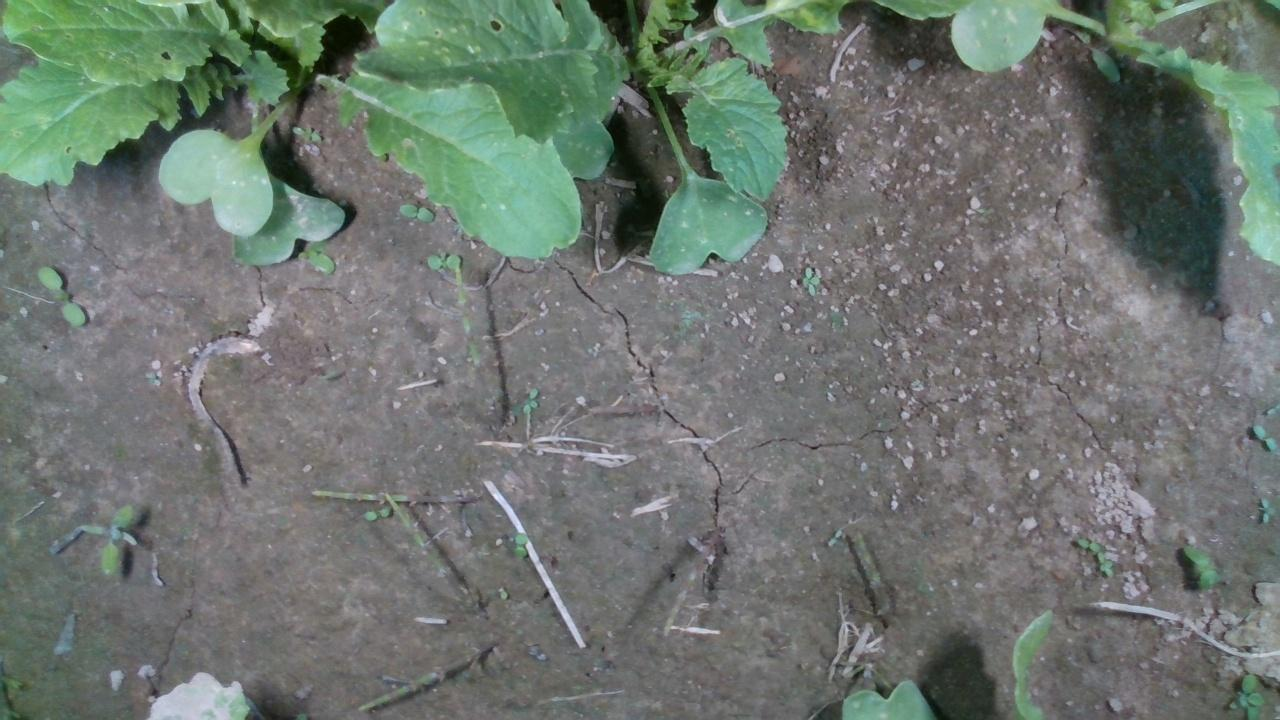weed: (77, 504, 137, 576), (33, 264, 86, 328), (1178, 542, 1216, 596), (1250, 422, 1277, 452), (397, 202, 434, 222), (290, 123, 323, 144), (800, 264, 820, 296), (517, 386, 539, 412), (1255, 495, 1274, 525), (513, 530, 527, 559)
